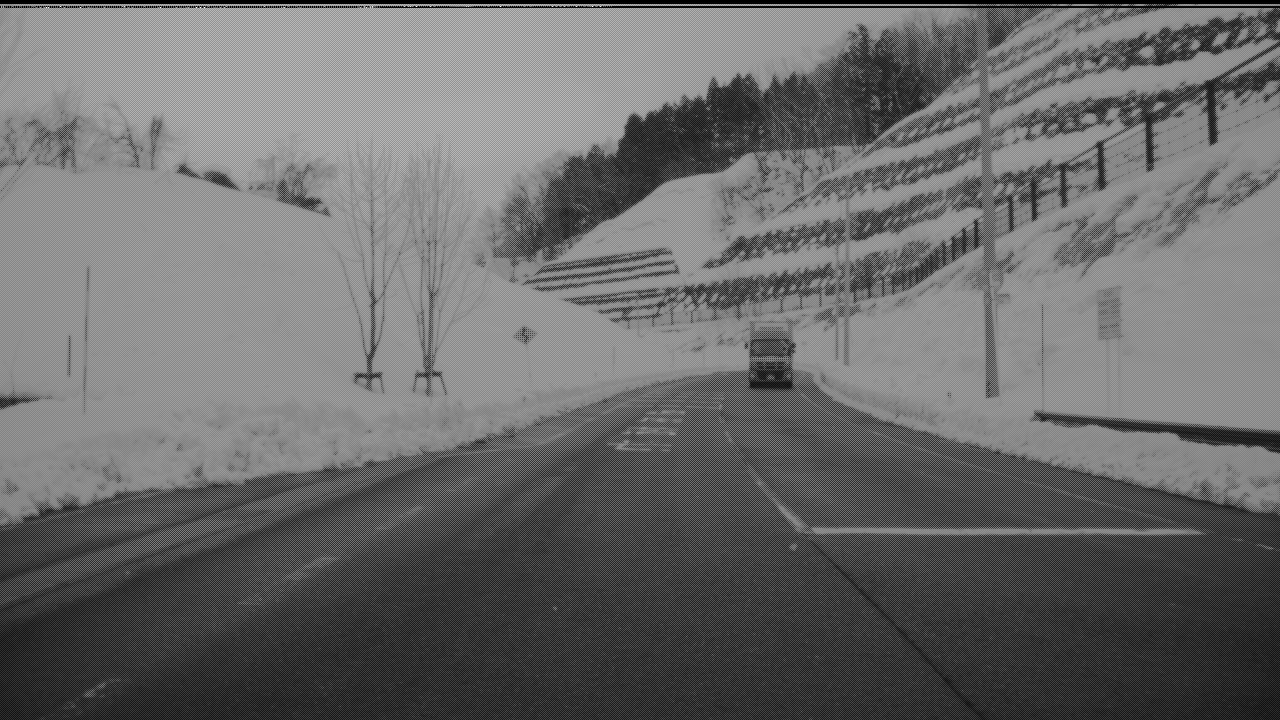pole: (974, 1, 1000, 391), (841, 167, 851, 358)
